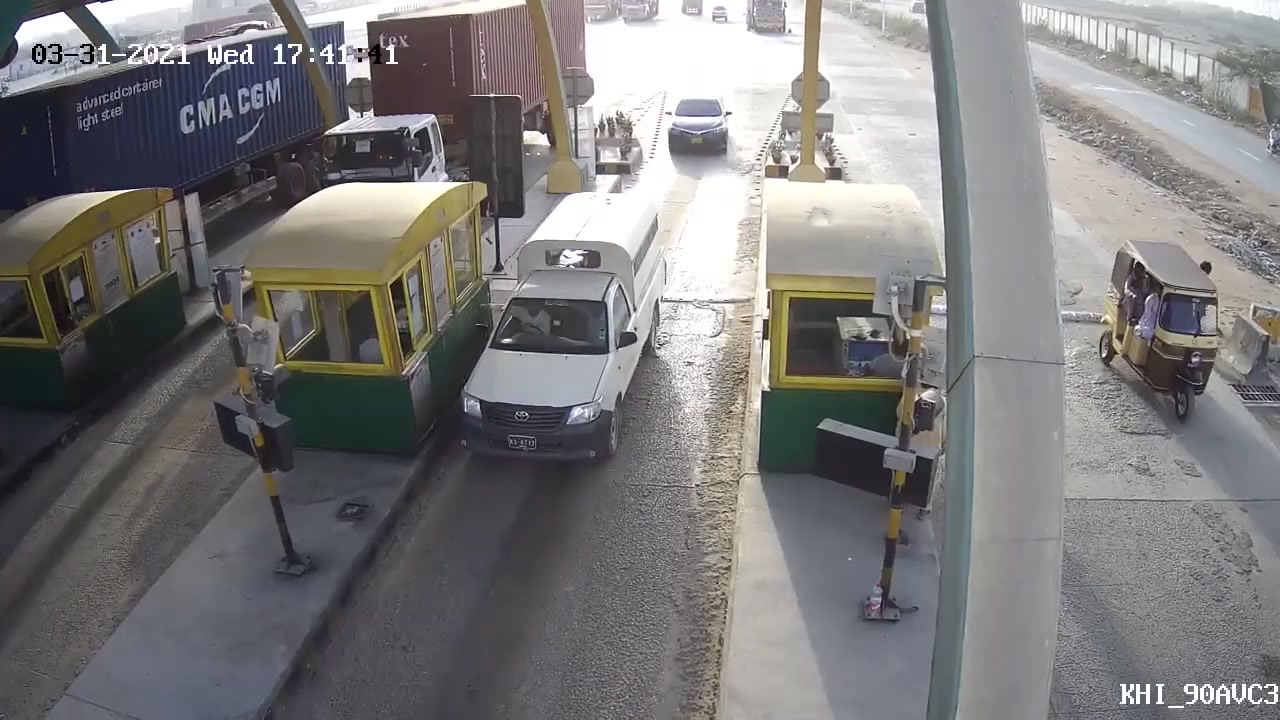F1: (459, 192, 670, 495)
